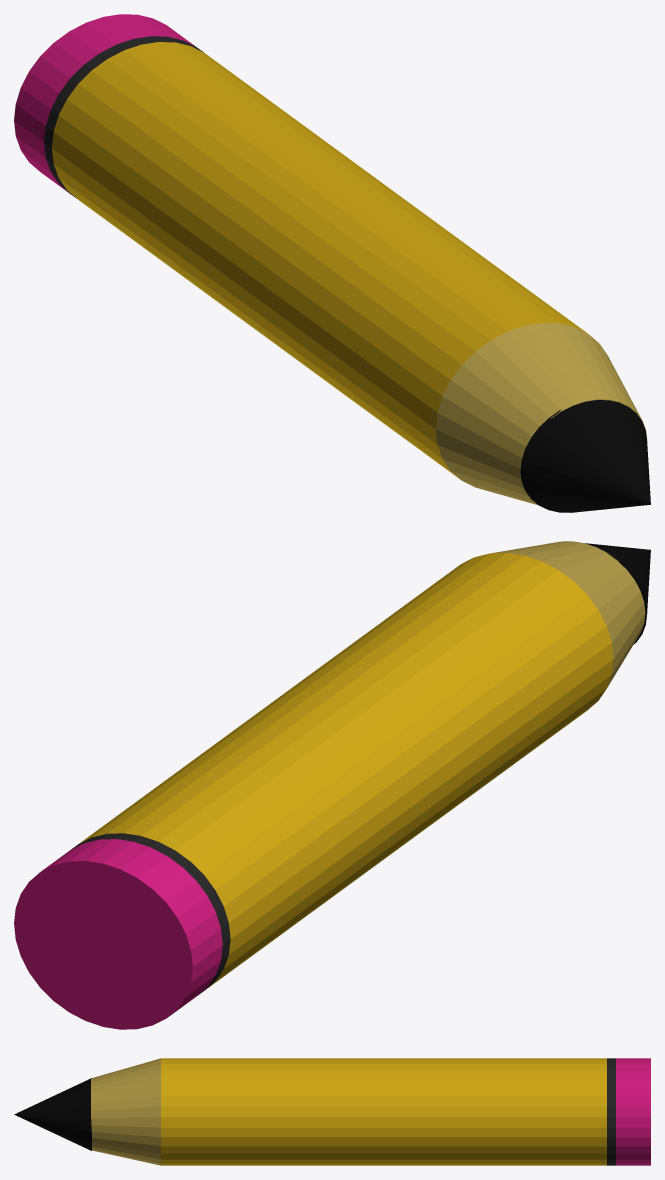
Rendered from lapiz_madera.obj.
3 renders of one model, top to bottom at view 1: azimuth 30°, elevation 25°; view 2: azimuth 150°, elevation 25°; view 3: azimuth 270°, elevation 25°, orthographic. The views are drawn at different scales.
Visible parts, largest first — view 1: Cylinder_amarillo, Cylinder_madera, Cylinder_Grafito, Cylinder_borrador, Cylinder_metal; view 2: Cylinder_amarillo, Cylinder_borrador, Cylinder_madera, Cylinder_metal, Cylinder_Grafito; view 3: Cylinder_amarillo, Cylinder_madera, Cylinder_borrador, Cylinder_Grafito, Cylinder_metal.
Part boxes in pixels (bbox=[...]): Cylinder_amarillo: bbox=[52, 42, 587, 479]; Cylinder_madera: bbox=[435, 323, 647, 504]; Cylinder_Grafito: bbox=[520, 400, 650, 512]; Cylinder_borrador: bbox=[14, 14, 195, 192]; Cylinder_metal: bbox=[44, 36, 203, 198]; Cylinder_amarillo: bbox=[79, 553, 613, 989]; Cylinder_borrador: bbox=[14, 839, 222, 1029]; Cylinder_madera: bbox=[492, 541, 645, 687]; Cylinder_metal: bbox=[71, 833, 230, 995]; Cylinder_Grafito: bbox=[585, 543, 650, 644]; Cylinder_amarillo: bbox=[161, 1058, 606, 1165]; Cylinder_madera: bbox=[91, 1058, 160, 1165]; Cylinder_borrador: bbox=[616, 1058, 650, 1165]; Cylinder_Grafito: bbox=[14, 1078, 91, 1150]; Cylinder_metal: bbox=[607, 1058, 615, 1165].
Size of the model in its own units: 0.5094 by 0.4448 by 2.7.
